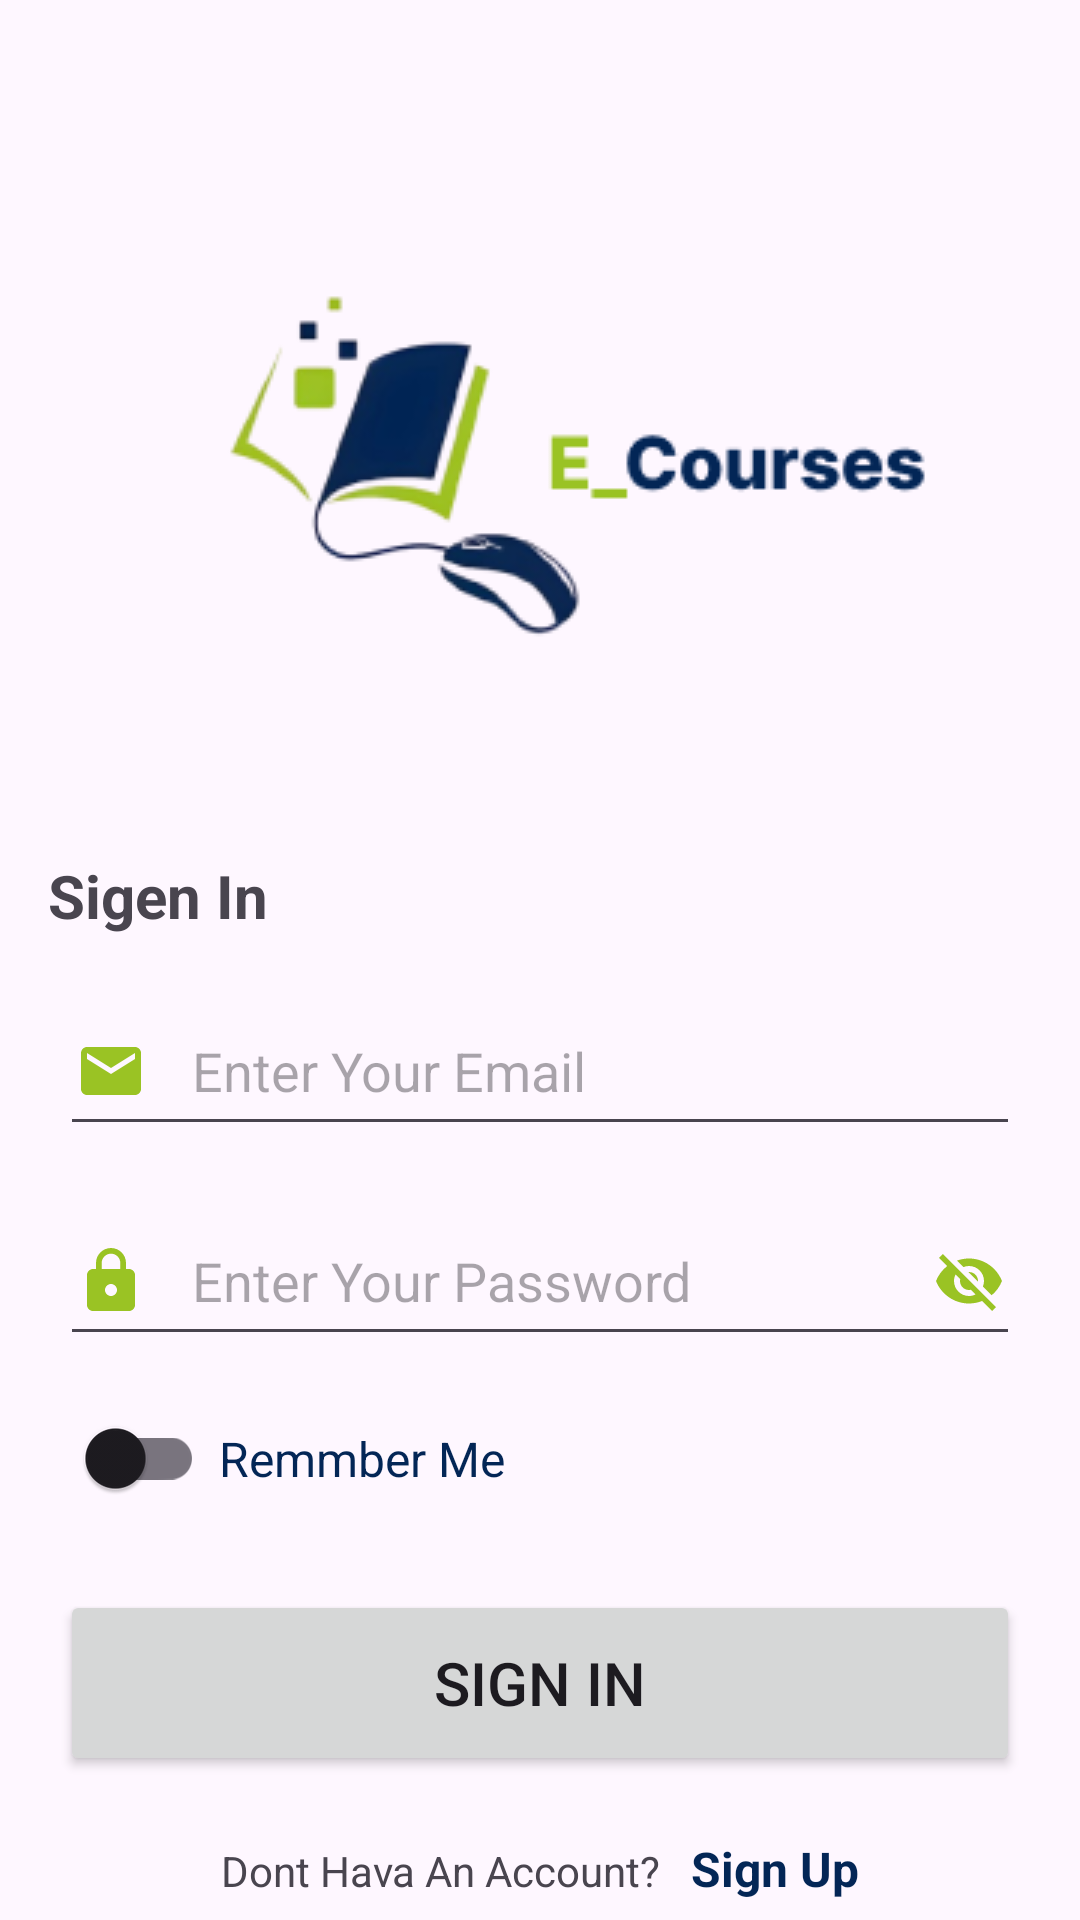

Where icons sit on this 1080px×1920px app screen, as (x1, y1, x2, y2):
visibility off: (936, 1254, 1002, 1311)
